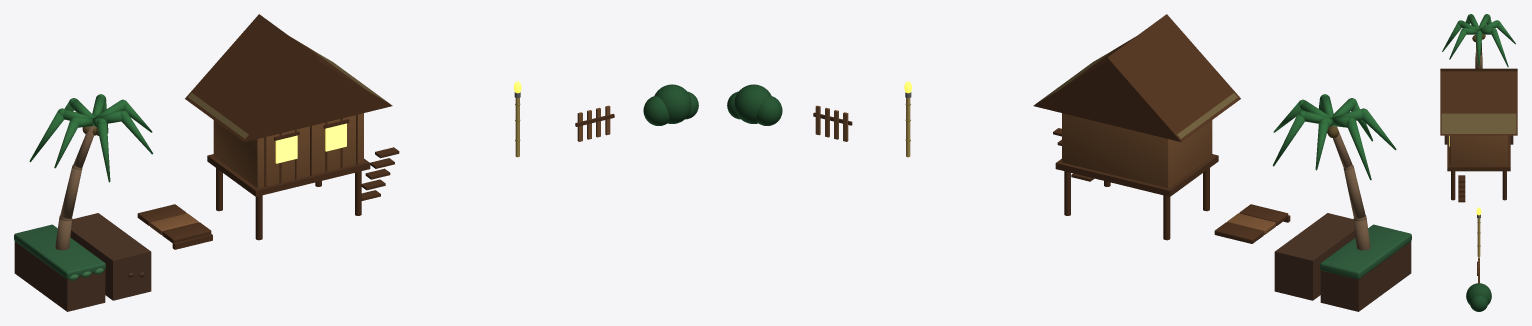
Rendered from kit_village.glb.
The picture shows the model from 3 angles, left to right: view 1: azimuth 30°, elevation 25°; view 2: azimuth 150°, elevation 25°; view 3: azimuth 270°, elevation 25°; orthographic projection. The views are drawn at different scales.
Visible parts, largest first — view 1: RoofTrim, Walls, vil_TF, vil_TT_dirt, vil_TT_cap, Floor, BushBall1, Roof, Plank0, Trunk1, BushBall0, Window-0.65 (+4 smaller); view 2: RoofTrim, Walls, vil_TF, vil_TT_dirt, vil_TT_cap, Floor, BushBall1, Roof, Plank2, Trunk1, BushBall0, Plank0 (+2 smaller); view 3: RoofTrim, Walls, Roof, Floor, BushBall1, BushBall2, FrondB1, FrondB0, FrondB6, Bamboo, FrondB5, Stilt1.3-0.9 (+10 smaller).
Boxes of the visible parts, <box> form: RoofTrim: <box>185,14,392,142</box>; Walls: <box>213,113,363,188</box>; vil_TF: <box>70,213,151,300</box>; vil_TT_dirt: <box>14,241,105,311</box>; vil_TT_cap: <box>14,224,105,279</box>; Floor: <box>207,154,370,196</box>; BushBall1: <box>654,84,691,123</box>; Roof: <box>188,49,389,138</box>; Plank0: <box>162,222,211,243</box>; Trunk1: <box>60,164,82,218</box>; BushBall0: <box>643,95,669,125</box>; Window-0.65: <box>275,135,297,163</box>; RoofTrim: <box>1033,14,1240,142</box>; Walls: <box>1062,113,1212,188</box>; vil_TF: <box>1274,213,1355,300</box>; vil_TT_dirt: <box>1320,241,1411,311</box>; vil_TT_cap: <box>1320,224,1411,279</box>; Floor: <box>1055,154,1218,196</box>; BushBall1: <box>734,84,771,123</box>; Roof: <box>1036,49,1237,138</box>; Plank2: <box>1214,222,1263,243</box>; Trunk1: <box>1343,164,1365,218</box>; BushBall0: <box>756,95,782,125</box>; Plank0: <box>1239,204,1288,225</box>; RoofTrim: <box>1440,68,1517,135</box>; Walls: <box>1450,135,1507,166</box>; Roof: <box>1441,113,1516,133</box>; Floor: <box>1447,135,1510,171</box>; BushBall1: <box>1466,283,1491,304</box>; BushBall2: <box>1470,295,1487,311</box>; FrondB1: <box>1491,28,1508,67</box>; FrondB0: <box>1475,31,1482,66</box>; FrondB6: <box>1449,28,1466,59</box>; Bamboo: <box>1477,218,1480,256</box>; FrondB5: <box>1442,20,1461,51</box>; Stilt1.3-0.9: <box>1451,171,1455,200</box>.
Size of the model in its own units: 17.22 by 4.92 by 2.7.
